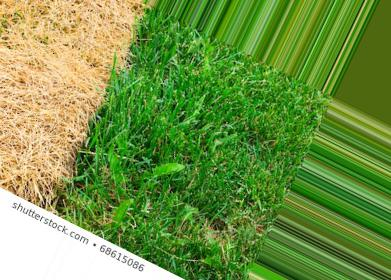patch: (3, 5, 43, 179), (39, 7, 73, 152), (66, 1, 100, 80), (95, 4, 125, 45)
